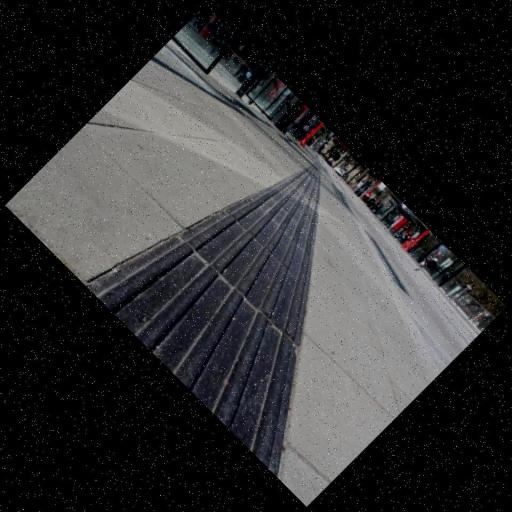line: (86, 233, 300, 475), (181, 208, 311, 345)
